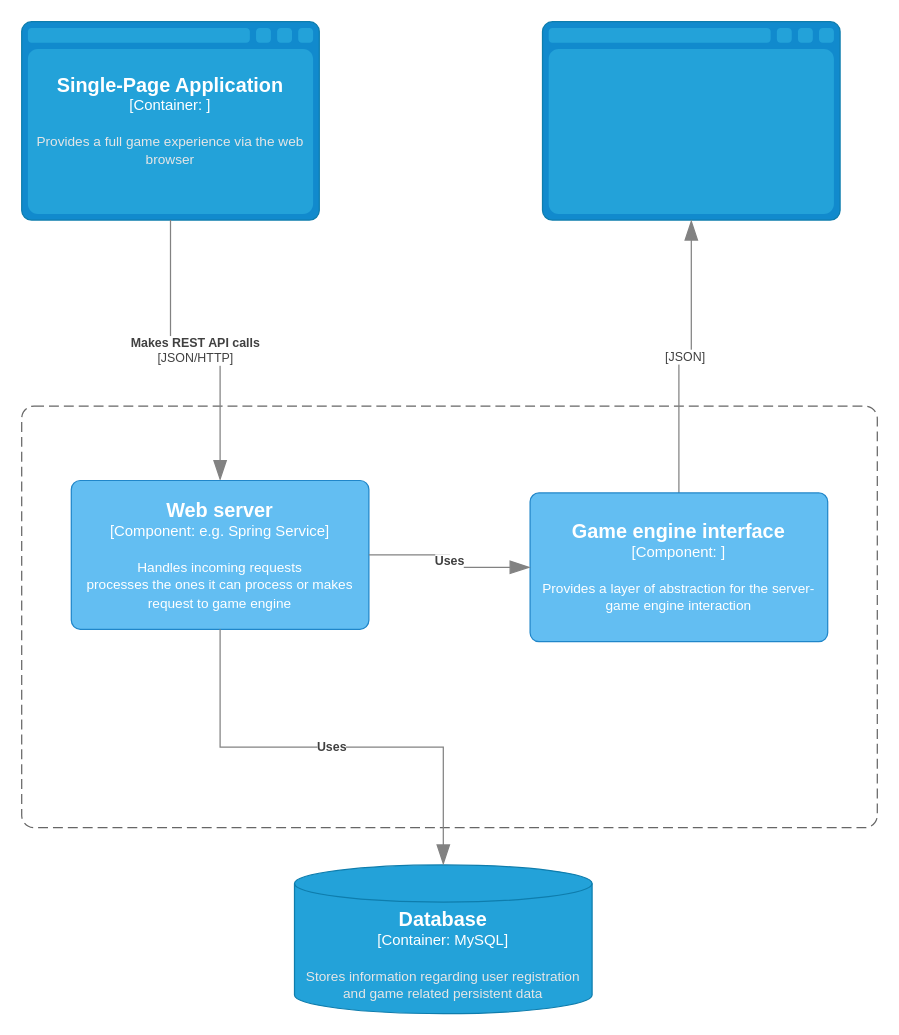
The diagram is 899 pixels wide and 1035 high, and some of its shapes have lost their labels. The shapes that lost their labels are listed below. From the top down, each one's box as (x1, y1, x2, y2) in pixels, then its label:
(541, 20, 840, 220): Game engine [Container: Java] Provides the web server with the main game logic
(20, 405, 877, 828): Communication layer [Container]
